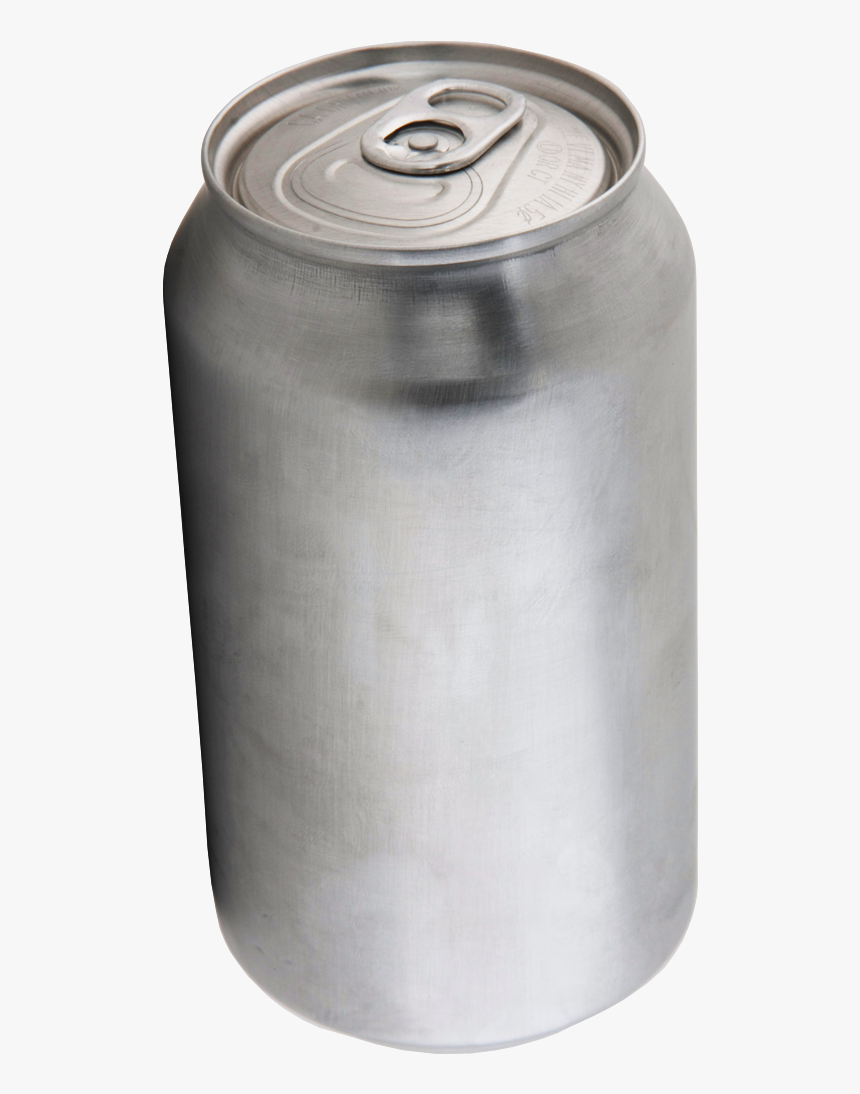metal: (157, 41, 702, 1058)
